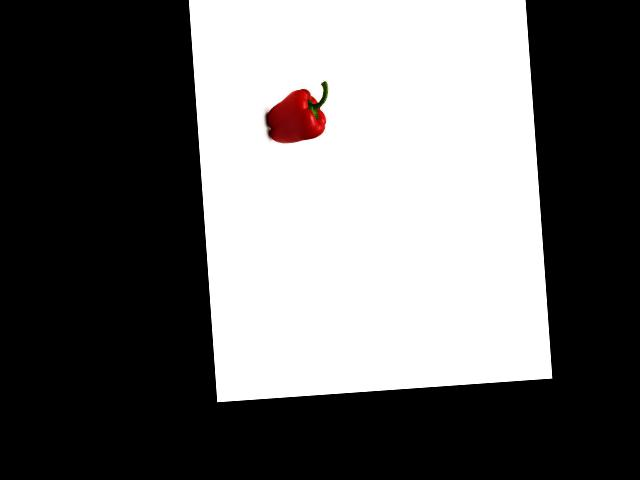bell_pepper: (259, 79, 335, 147)
